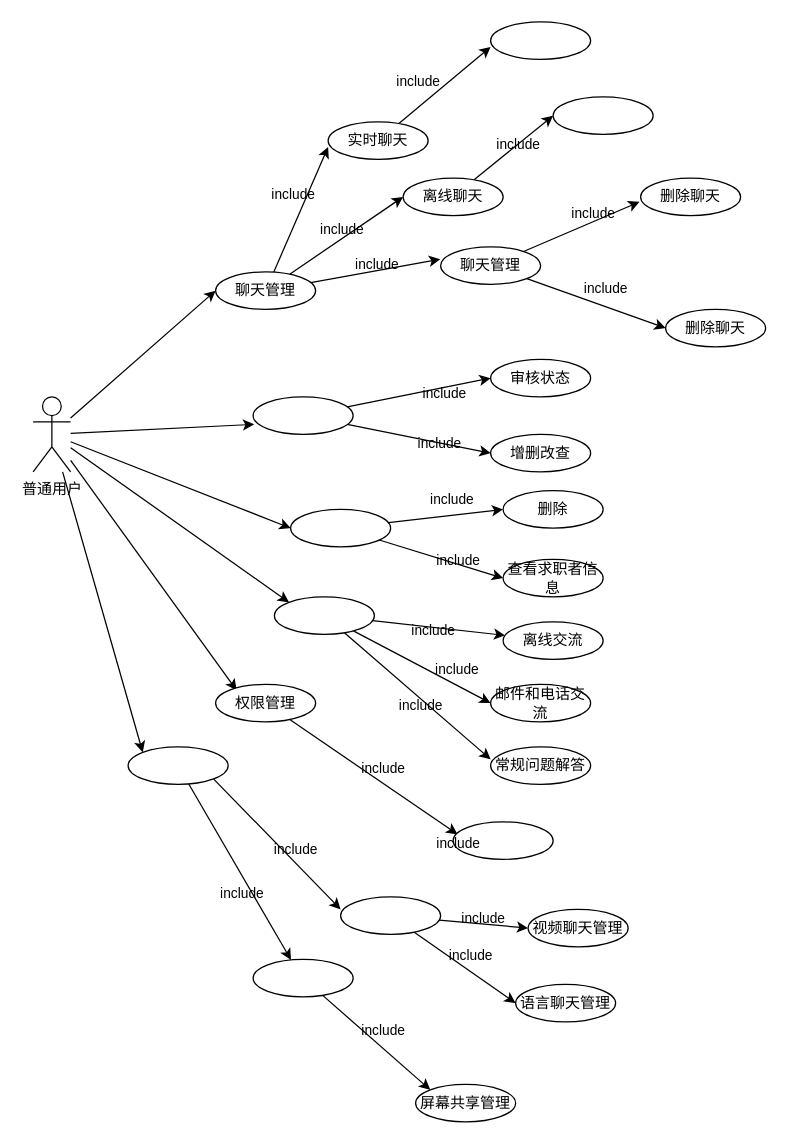
Image size: 788x1144. Some labels were removed from this diagram. The centre of each missing label's shape, as x and y in pixels:
在线提示: [540,40]
屏幕共享: [302,977]
招聘管理: [302,415]
更改资质文件: [502,840]
未读消息: [602,115]
求职者管理: [340,527]
联系客服: [323,615]
视频聊天: [390,915]
面试管理: [177,765]
